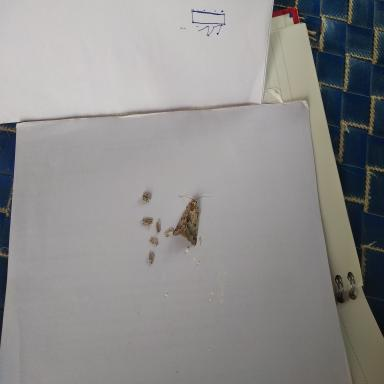abw: (173, 195, 211, 245)
pbw: (140, 218, 154, 231), (148, 236, 158, 246), (164, 228, 173, 238), (148, 252, 153, 264), (156, 219, 160, 232)
